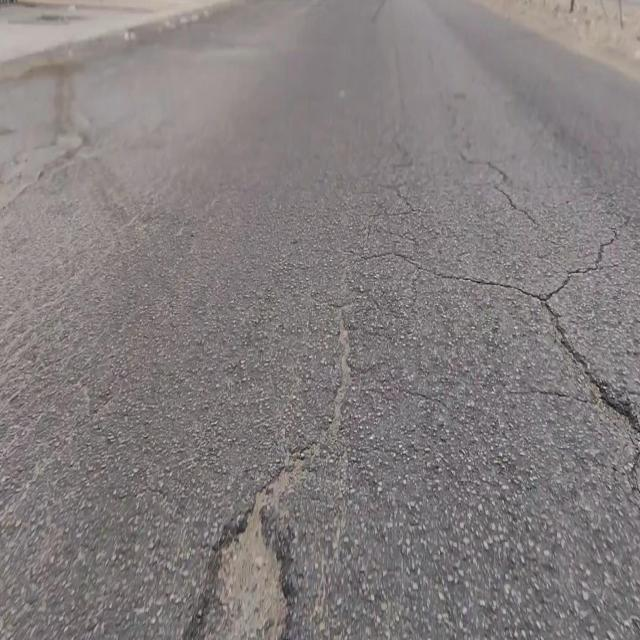Potholes: (195, 487, 293, 640)
